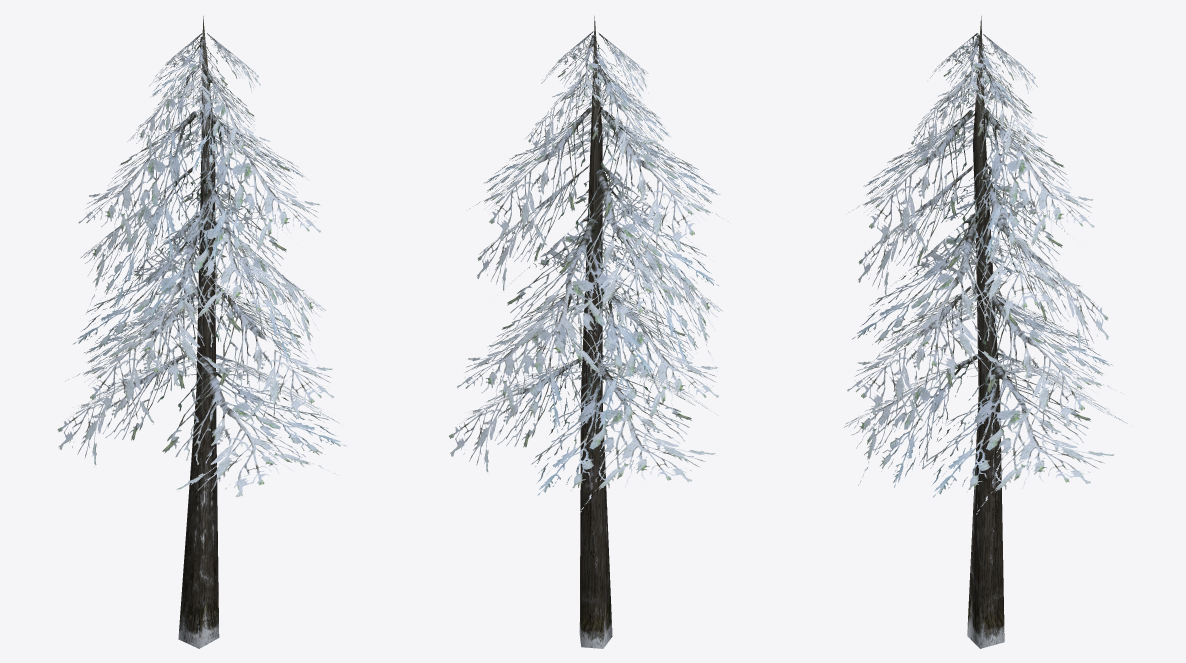
Rendered from Snow_Tree02.FBX.
3 views of the same model, side by side, from view 1: azimuth 30°, elevation 25°; view 2: azimuth 150°, elevation 25°; view 3: azimuth 270°, elevation 25° (orthographic).
Visible parts, largest first — view 1: Snow_Tree02; view 2: Snow_Tree02; view 3: Snow_Tree02.
Part boxes in pixels (left/top/right/bottom): Snow_Tree02: left=57, top=16, right=346, bottom=648; Snow_Tree02: left=449, top=16, right=730, bottom=648; Snow_Tree02: left=844, top=16, right=1127, bottom=648.
Size of the model in its own units: 1135 by 2294 by 1217.
